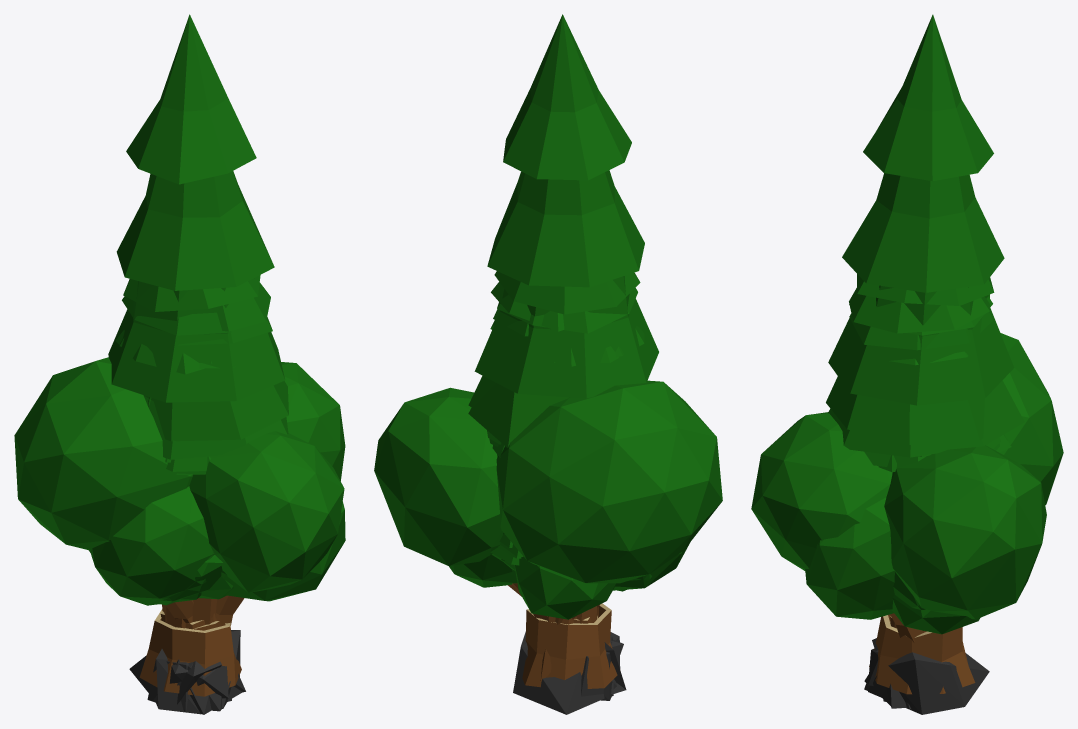
Rendered from AppReady.fbx.
3 renders of one model, left to right at view 1: azimuth 30°, elevation 25°; view 2: azimuth 150°, elevation 25°; view 3: azimuth 270°, elevation 25°, orthographic.
Parts seen in each view (by area): view 1: TreeOak_3, TreePine_5, TreeOak_1, TreePine_3, TreeStump_2, TreePine_1, TreePine_8, TreeOak_2, TreePine_6, RockGrey_8, TreePine_2, TreeOak_4 (+4 smaller); view 2: TreeOak_3, TreePine_5, TreeStump_2, TreePine_8, TreePine_3, TreeOak_2, RockGrey_3, TreeOak_1, TreePine_1, TreePine_7; view 3: TreeOak_3, TreePine_5, TreePine_3, TreeOak_2, TreePine_8, RockGrey_3, TreeStump_2, TreePine_6, TreeOak_1, TreePine_4.
Boxes of the visible parts, x1,y1,x2,y2 form: TreeOak_3: (14,357,345,592); TreePine_5: (108,14,284,402); TreeOak_1: (89,486,214,623); TreePine_3: (123,275,288,622); TreeStump_2: (139,609,241,696); TreePine_1: (122,296,236,459); TreePine_8: (192,282,288,624); TreeOak_2: (89,501,345,626); TreePine_6: (162,317,272,628); RockGrey_8: (155,649,200,714); TreePine_2: (115,330,210,474); TreeOak_4: (159,550,222,605); TreeOak_3: (374,380,722,624); TreePine_5: (474,14,658,398); TreeStump_2: (522,603,617,688); TreePine_8: (468,282,568,556); TreePine_3: (468,271,640,547); TreeOak_2: (514,556,616,619); RockGrey_3: (513,631,604,714); TreeOak_1: (449,542,690,607); TreePine_1: (497,288,637,333); TreePine_7: (490,346,623,681); TreeOak_3: (751,333,1063,619); TreePine_5: (828,14,1014,405); TreePine_3: (826,274,994,633); TreeOak_2: (805,497,923,643); TreePine_8: (828,287,1024,457); RockGrey_3: (868,652,989,714); TreeStump_2: (869,614,975,694); TreePine_6: (849,312,999,450); TreeOak_1: (892,595,979,634); TreePine_4: (841,336,1000,467).
Size of the model in its own units: 7.03 by 14.19 by 5.88.
